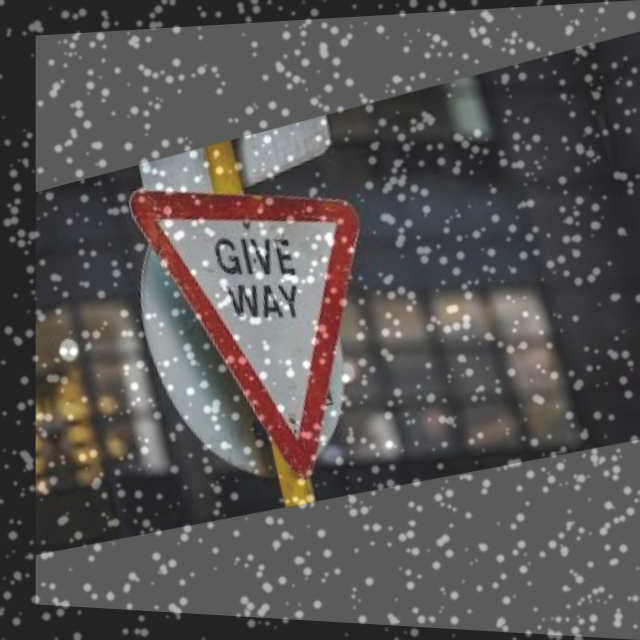Give_Way: (134, 137, 411, 505)
